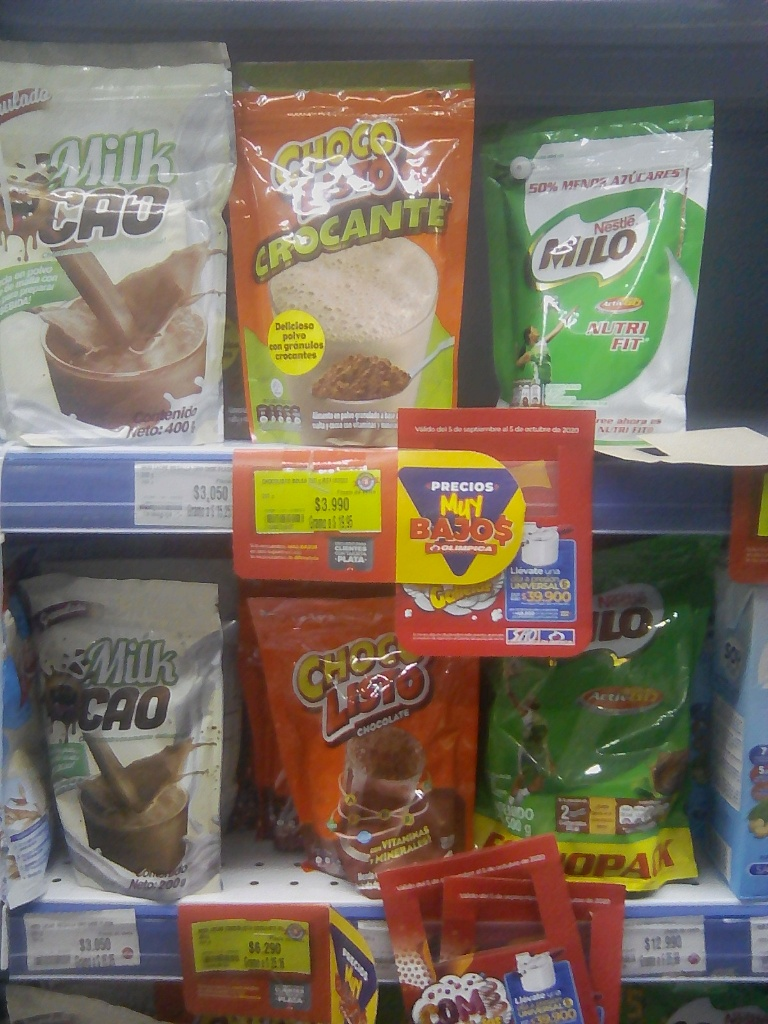COL0170102DYP25000: (232, 63, 475, 449)
COL0170103DYP20000: (238, 587, 487, 894)
COL0170203DYP50000: (487, 560, 714, 898)
COL0170205DYP20000: (474, 100, 712, 450)
